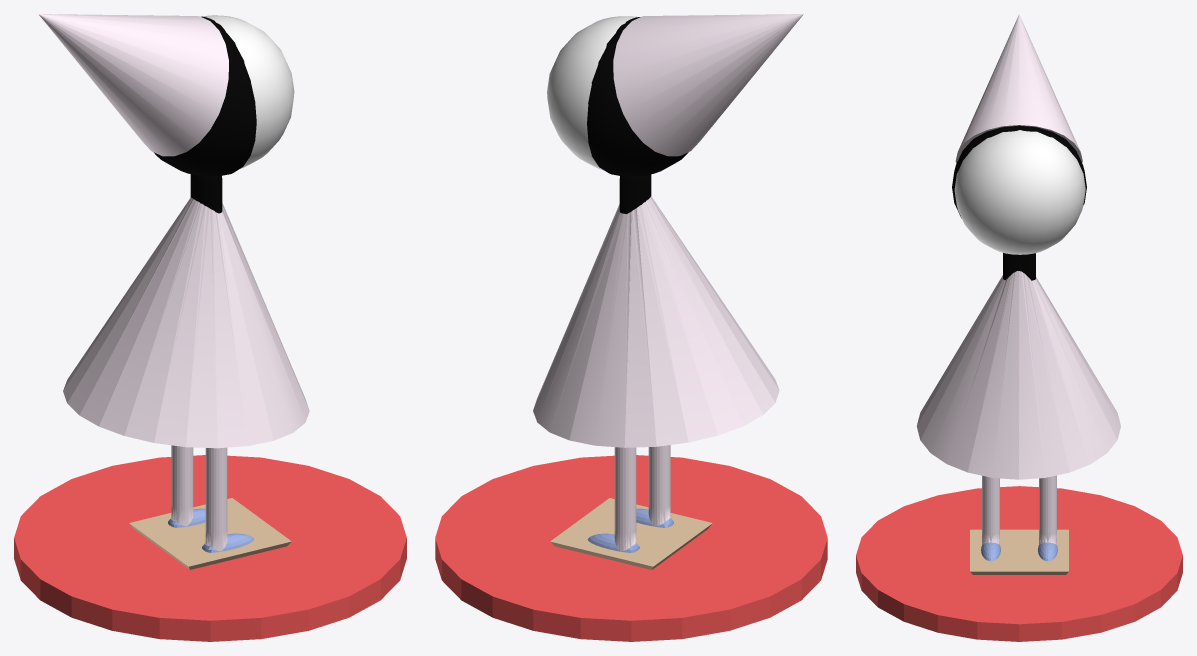
The model's file is Ida.fbx.
3 views of the same model, side by side, from view 1: azimuth 30°, elevation 25°; view 2: azimuth 150°, elevation 25°; view 3: azimuth 270°, elevation 25° (orthographic). The views are drawn at different scales.
Visible parts, largest first — view 1: Base Ida, Object_12, Object_14, Object_13, Object_16, Cube, Object_11; view 2: Base Ida, Object_12, Object_14, Object_13, Object_16, Cube, Object_11; view 3: Base Ida, Object_12, Object_16, Object_14, Cube, Object_13, Object_11.
Boxes of the visible parts, x1=… form: Base Ida: x1=14, y1=455, x2=406, y2=641; Object_12: x1=63, y1=197, x2=309, y2=551; Object_14: x1=38, y1=14, x2=228, y2=156; Object_13: x1=154, y1=16, x2=256, y2=213; Object_16: x1=202, y1=15, x2=294, y2=168; Cube: x1=129, y1=498, x2=291, y2=569; Object_11: x1=168, y1=508, x2=254, y2=552; Base Ida: x1=435, y1=455, x2=827, y2=641; Object_12: x1=533, y1=196, x2=779, y2=551; Object_14: x1=613, y1=14, x2=803, y2=156; Object_13: x1=587, y1=17, x2=688, y2=213; Object_16: x1=547, y1=16, x2=637, y2=170; Cube: x1=550, y1=498, x2=712, y2=569; Object_11: x1=587, y1=508, x2=673, y2=552; Base Ida: x1=856, y1=486, x2=1182, y2=641; Object_12: x1=916, y1=271, x2=1120, y2=544; Object_16: x1=954, y1=130, x2=1085, y2=254; Object_14: x1=955, y1=14, x2=1082, y2=163; Cube: x1=970, y1=529, x2=1068, y2=574; Object_13: x1=952, y1=125, x2=1086, y2=280; Object_11: x1=981, y1=542, x2=1057, y2=561.
Bounding box in the file's own units: 927 × 1518 × 920.
